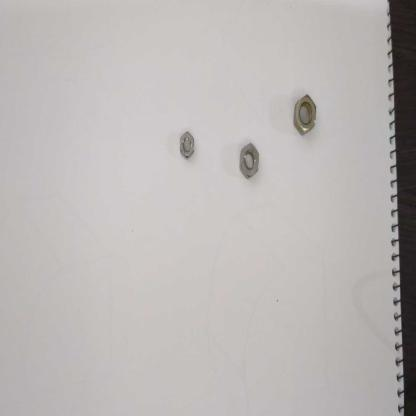NUTS: (295, 83, 320, 142), (235, 135, 265, 181), (176, 122, 198, 164)
